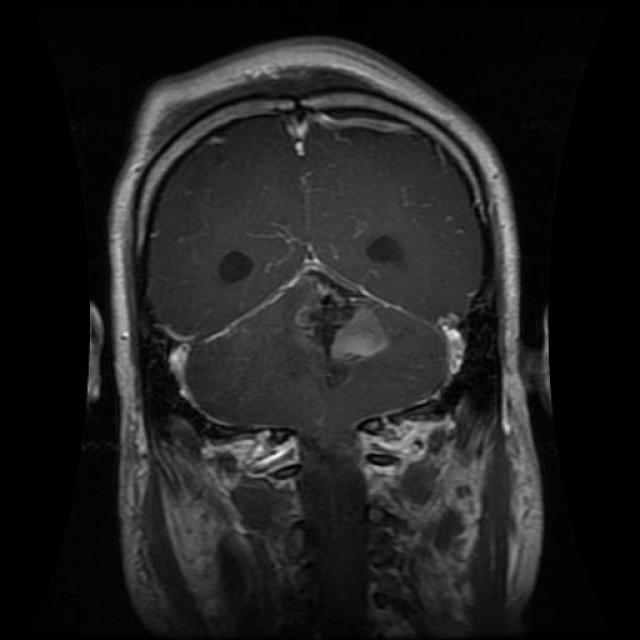glioma: (285, 263, 396, 397)
